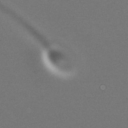normal: (1, 1, 48, 50)
